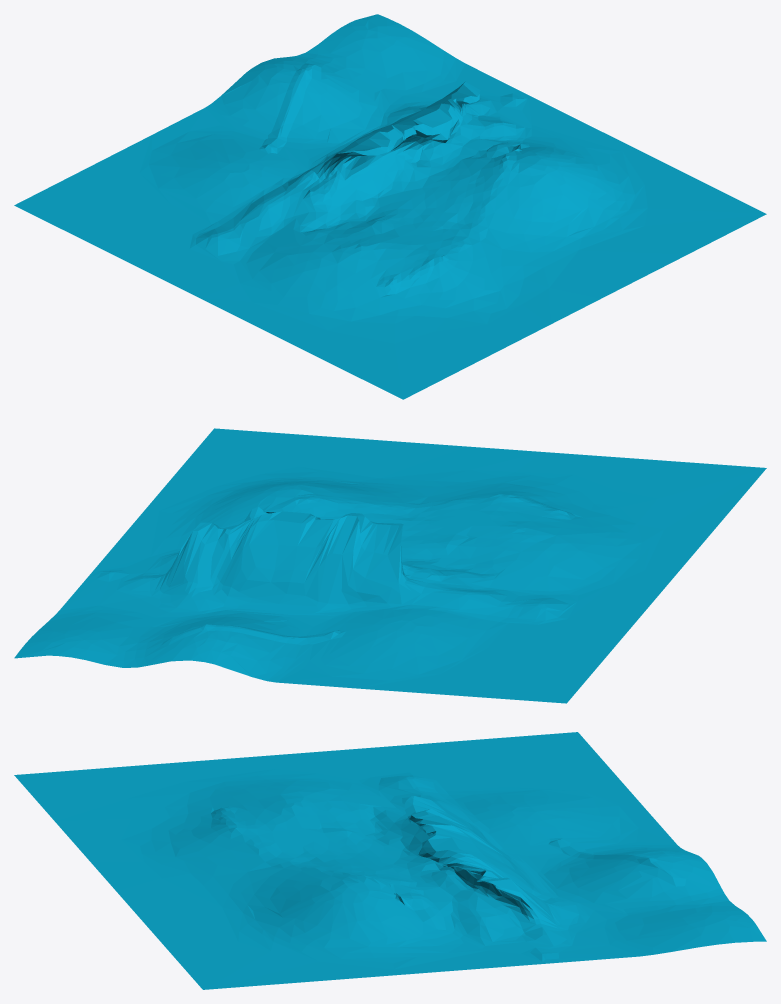
Rendered from Wave.gltf.
The picture shows the model from 3 angles, top to bottom: view 1: azimuth 30°, elevation 25°; view 2: azimuth 150°, elevation 25°; view 3: azimuth 270°, elevation 25°; orthographic projection. The views are drawn at different scales.
Parts seen in each view (by area): view 1: node-0; view 2: node-0; view 3: node-0.
Boxes of the visible parts, x1,y1,x2,y2 form: node-0: (14,14,766,399); node-0: (14,428,766,703); node-0: (14,732,766,989).
Size of the model in its own units: 3564014 by 370579 by 4396610.
